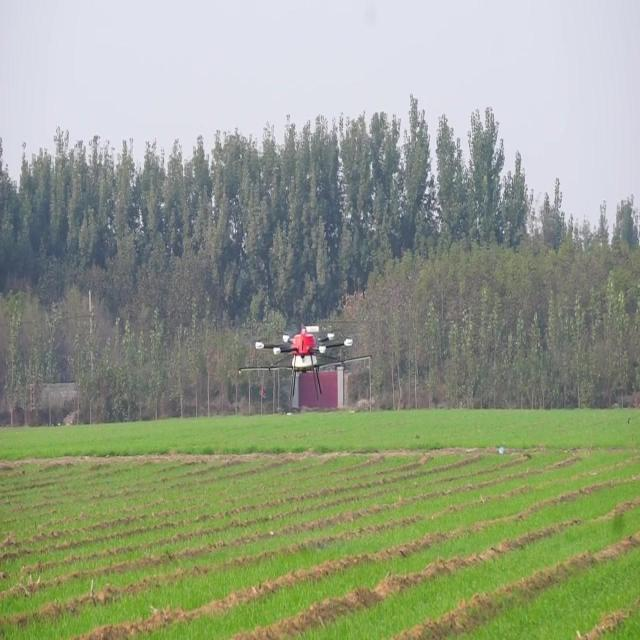drone: (238, 324, 373, 406)
